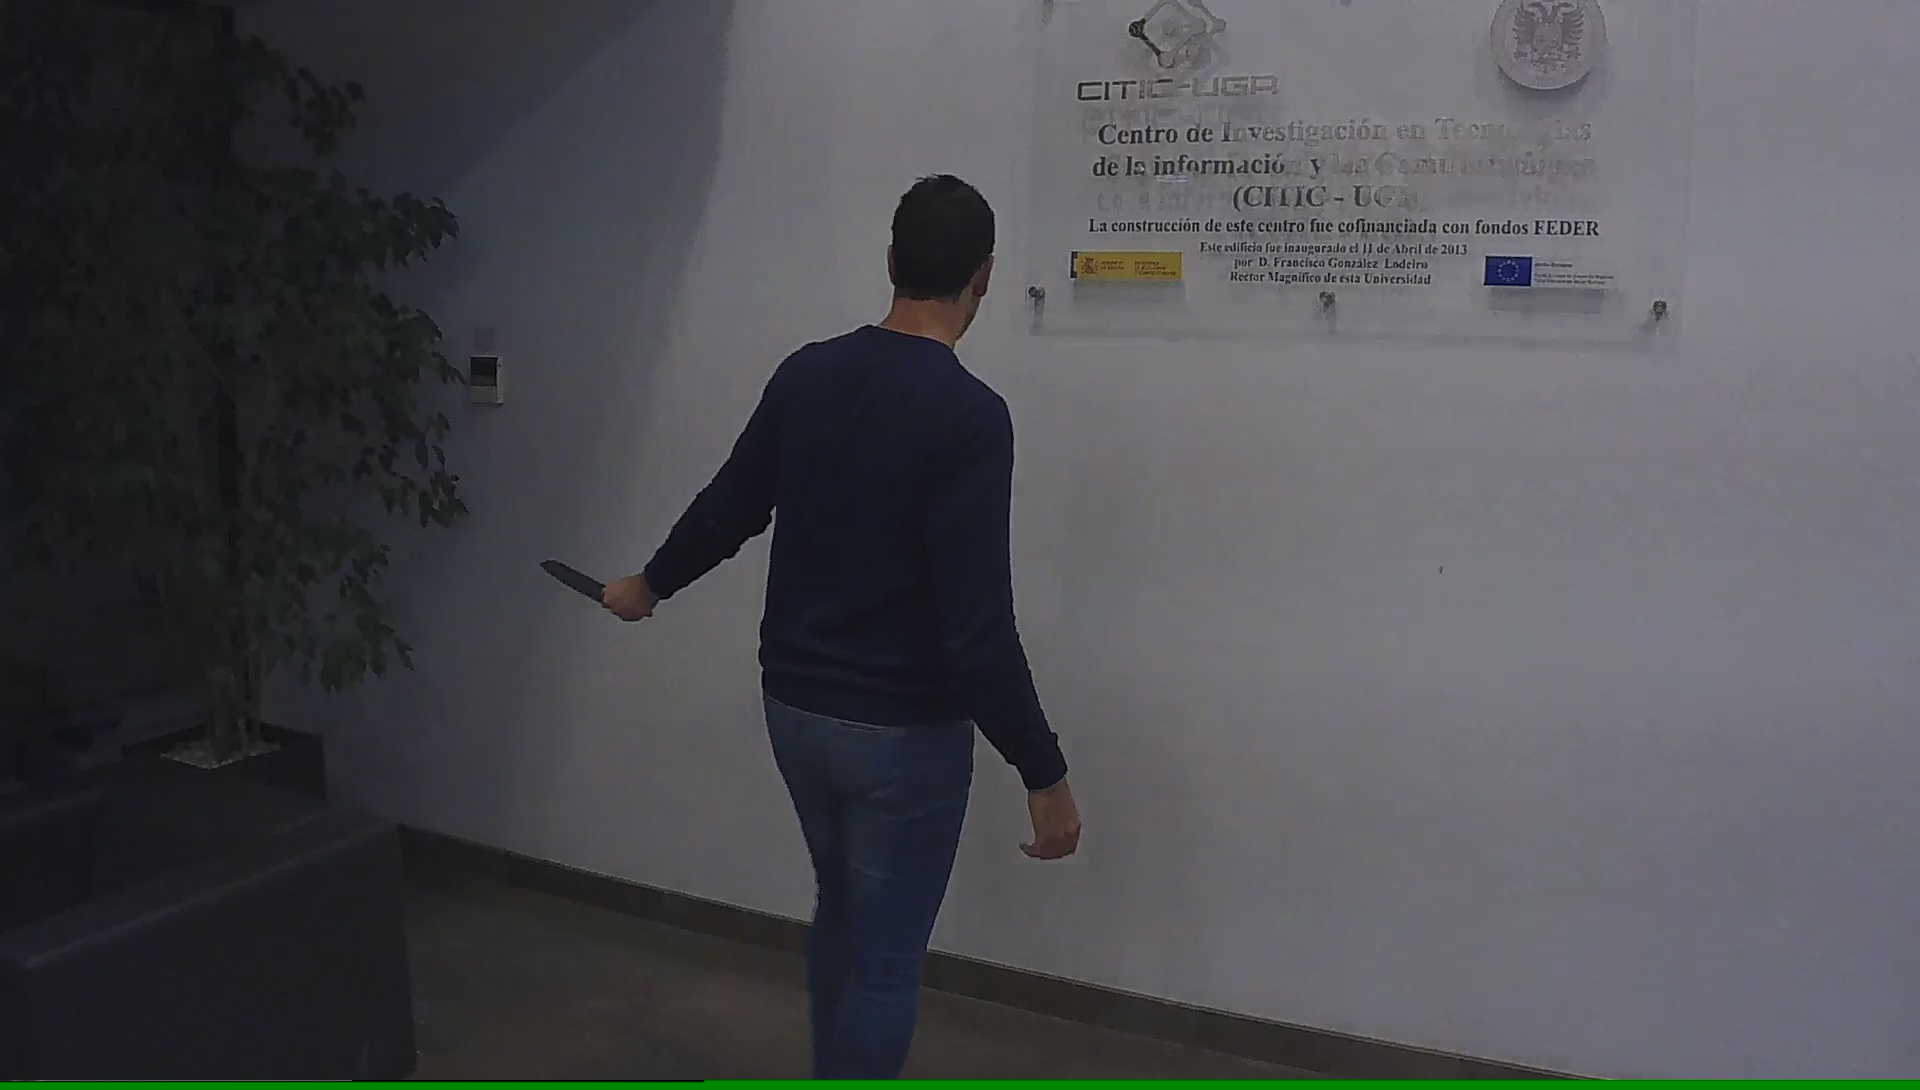knife: (534, 550, 641, 623)
